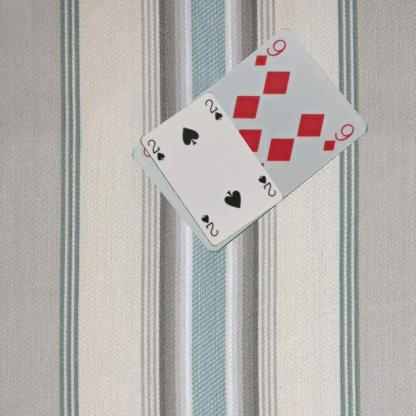2s: (144, 136, 166, 162), (255, 172, 277, 198)
9d: (251, 36, 288, 68)
